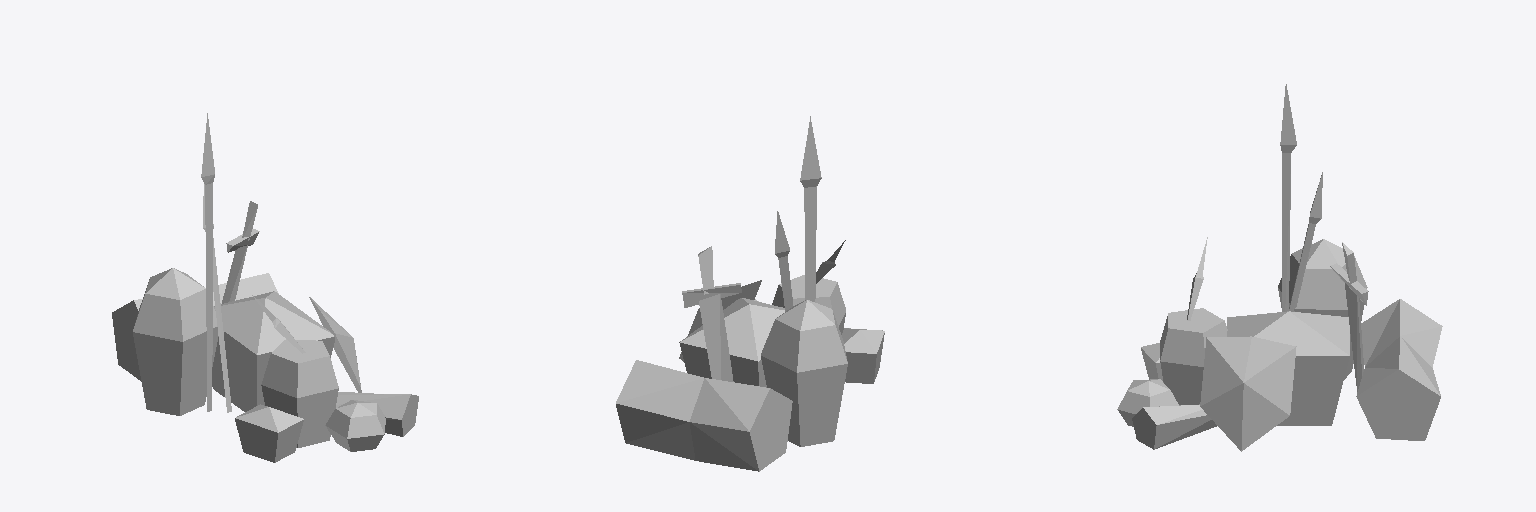
The model's file is weapons03.obj.
3 views of the same model, side by side, from view 1: azimuth 30°, elevation 25°; view 2: azimuth 150°, elevation 25°; view 3: azimuth 270°, elevation 25° (orthographic).
Visible parts, largest first — view 1: TreasurePile0; view 2: TreasurePile0; view 3: TreasurePile0.
Boxes of the visible parts, x1,y1,x2,y2 form: TreasurePile0: [112, 113, 418, 462]; TreasurePile0: [616, 116, 884, 471]; TreasurePile0: [1117, 84, 1442, 451].
Size of the model in its own units: 1.03 by 1.49 by 1.43.